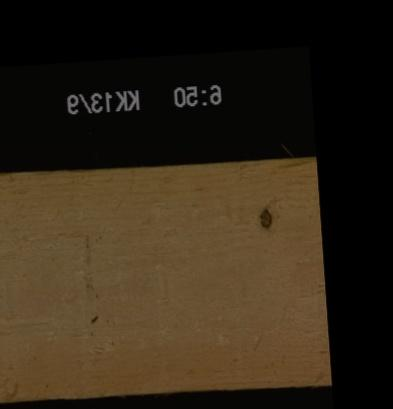dry_knot: (257, 205, 273, 228)
